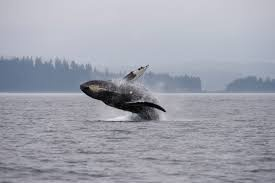humpback: (80, 77, 166, 121)
